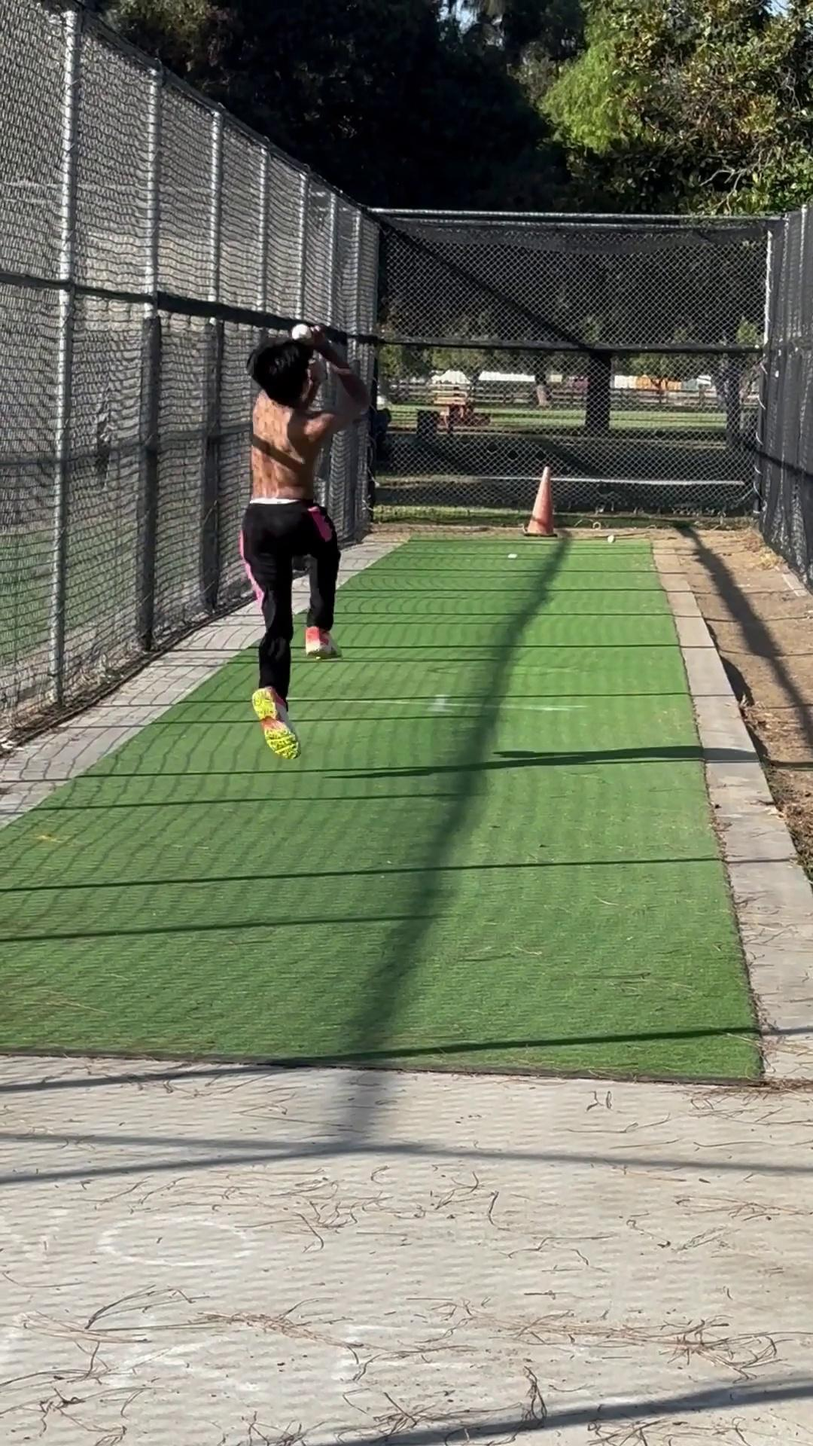ball: (285, 316, 322, 349)
